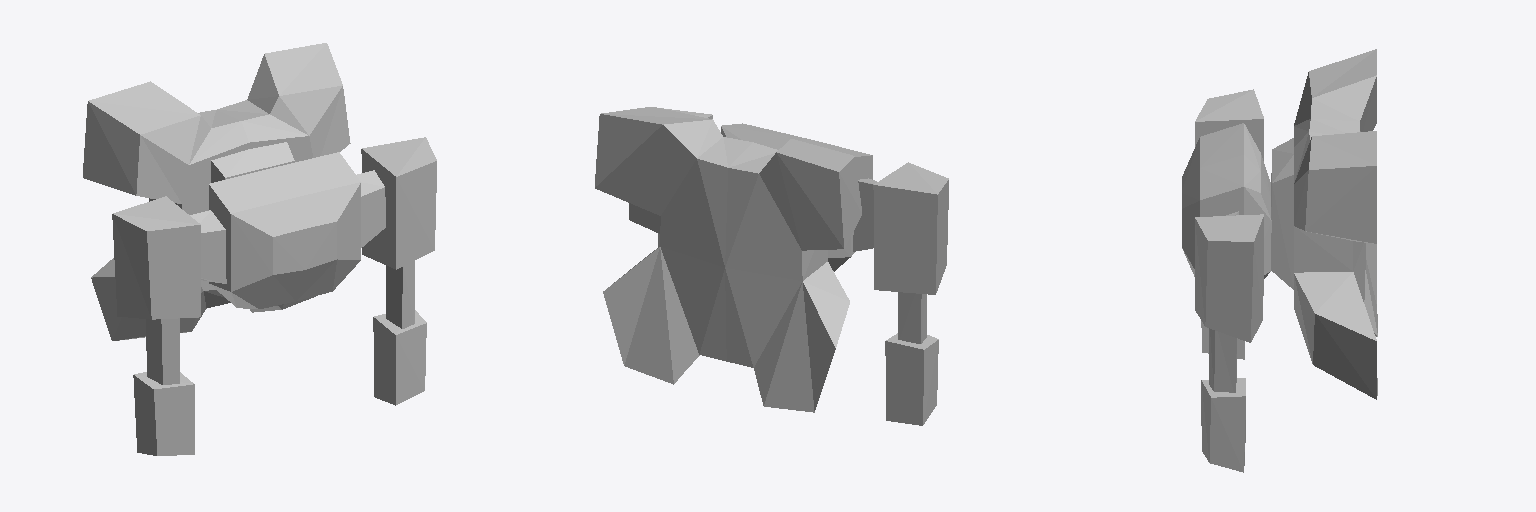
The model's file is turret-12.obj.
3 views of the same model, side by side, from view 1: azimuth 30°, elevation 25°; view 2: azimuth 150°, elevation 25°; view 3: azimuth 270°, elevation 25° (orthographic).
Parts seen in each view (by area): view 1: turret_12; view 2: turret_12; view 3: turret_12.
Part boxes in pixels (bbox=[...]): turret_12: bbox=[83, 43, 436, 455]; turret_12: bbox=[595, 107, 948, 425]; turret_12: bbox=[1182, 49, 1377, 472].
Bounding box in the file's own units: 4.46 × 4.16 × 2.42.